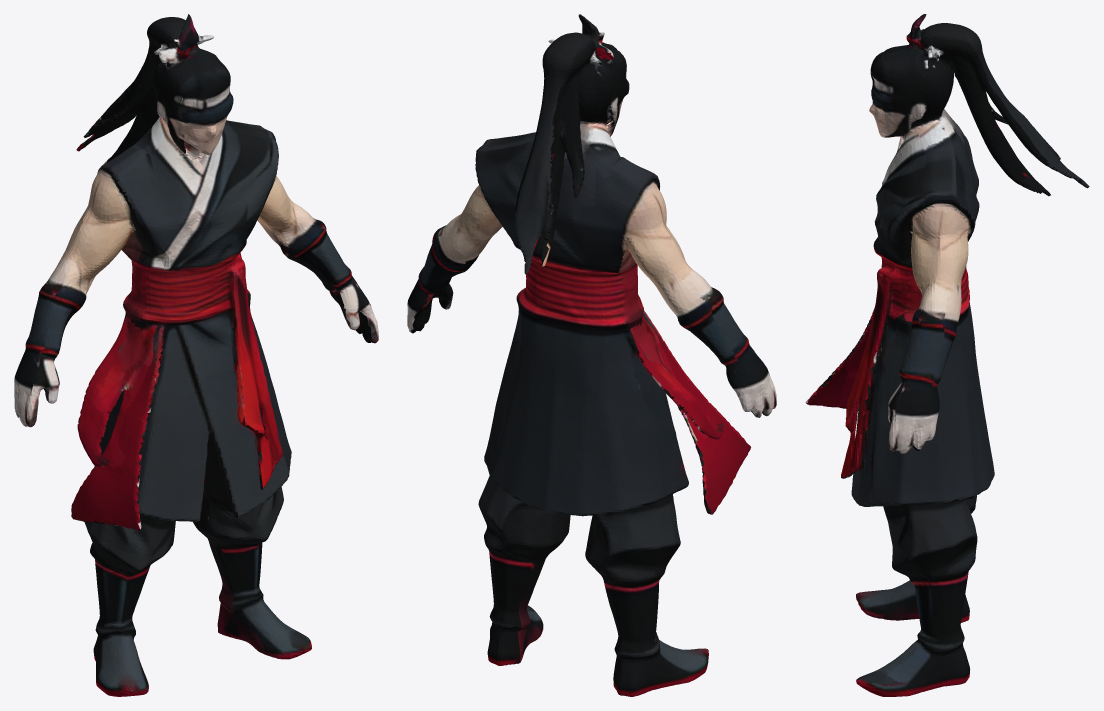
Rendered from herob_raw.glb.
3 views of the same model, side by side, from view 1: azimuth 30°, elevation 25°; view 2: azimuth 150°, elevation 25°; view 3: azimuth 270°, elevation 25° (orthographic). The views are drawn at different scales.
Visible parts, largest first — view 1: tmpbp_ybe_6.ply; view 2: tmpbp_ybe_6.ply; view 3: tmpbp_ybe_6.ply.
Part boxes in pixels (box(x1,y1,x2,y2)): tmpbp_ybe_6.ply: box(14, 14, 378, 696); tmpbp_ybe_6.ply: box(407, 14, 776, 696); tmpbp_ybe_6.ply: box(805, 14, 1089, 696).
Bounding box in the file's own units: 1.15 × 1.99 × 0.804.
1 material, 1 textured.
